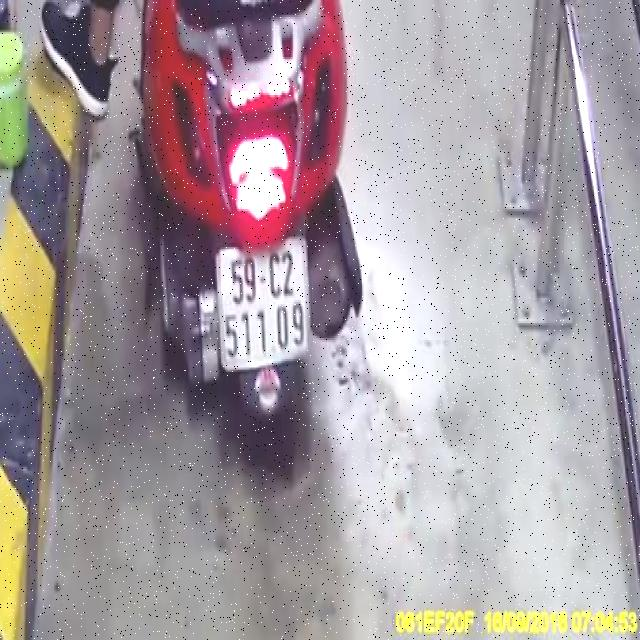0: (272, 298, 290, 356)
1: (255, 308, 268, 360), (239, 309, 251, 362)
2: (280, 248, 297, 300)
5: (224, 254, 244, 309), (224, 312, 239, 362)
9: (243, 248, 261, 305), (289, 299, 306, 350)
C: (266, 244, 282, 298)
